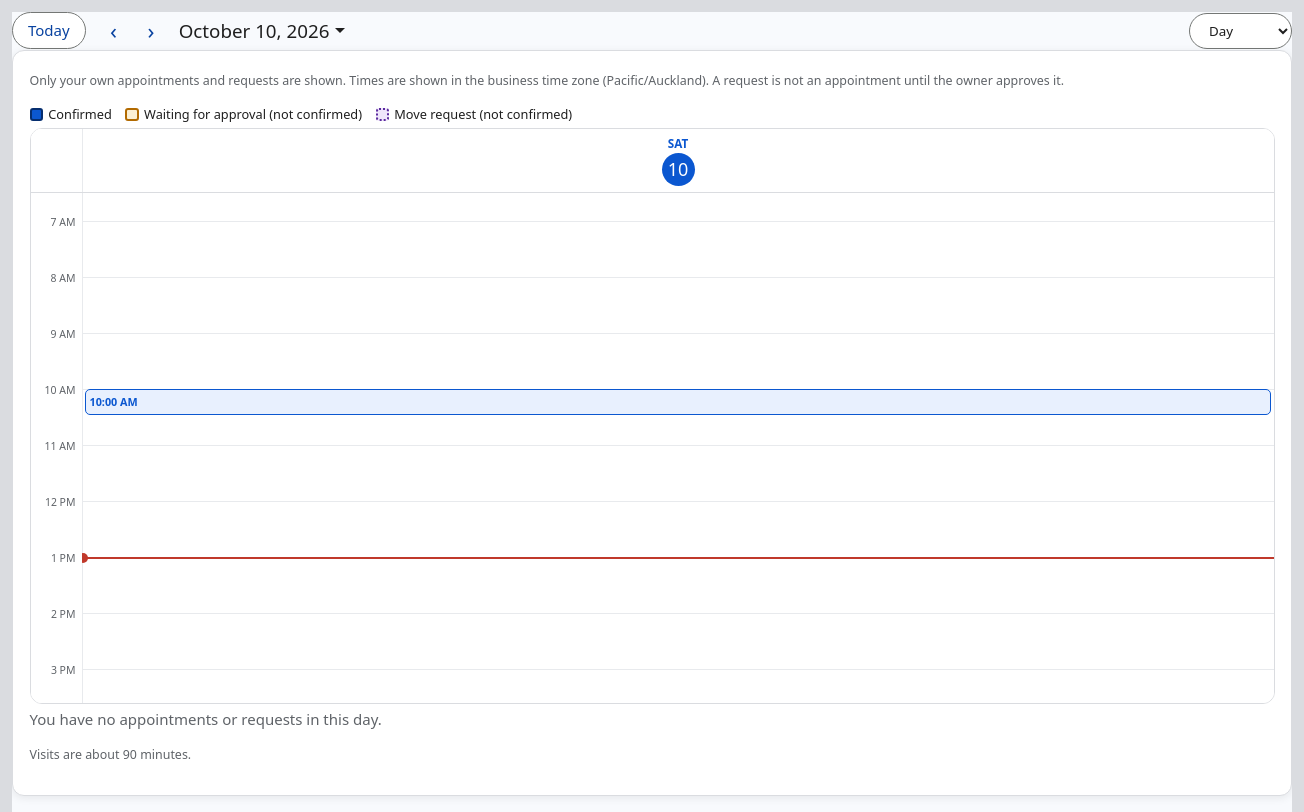
client calendar views › shows an empty calendar with a short note for past dates
The width and height of the screenshot is (1304, 812).
(page scrolled)
Click the button "‹". click: (113, 31)
box: [95,12,132,50]
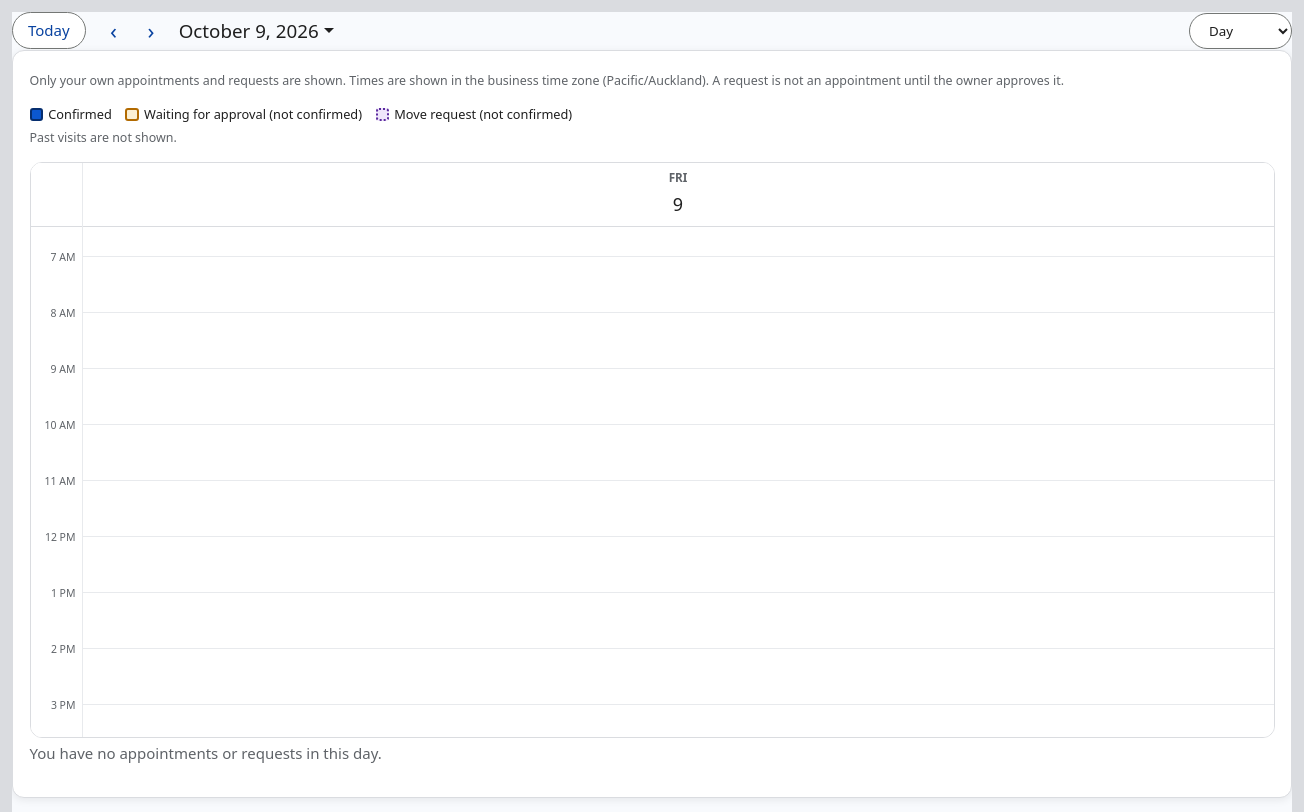
expect the text "Past visits are not shown." is shown: met, box [30,129,177,146]
